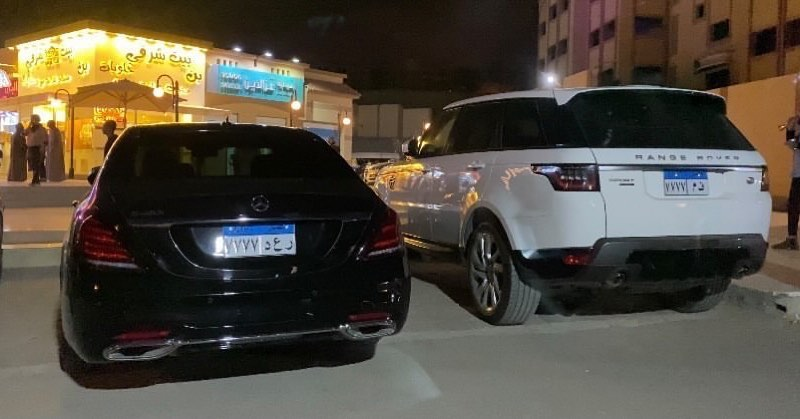carpl: (221, 219, 299, 257), (660, 172, 710, 195)
